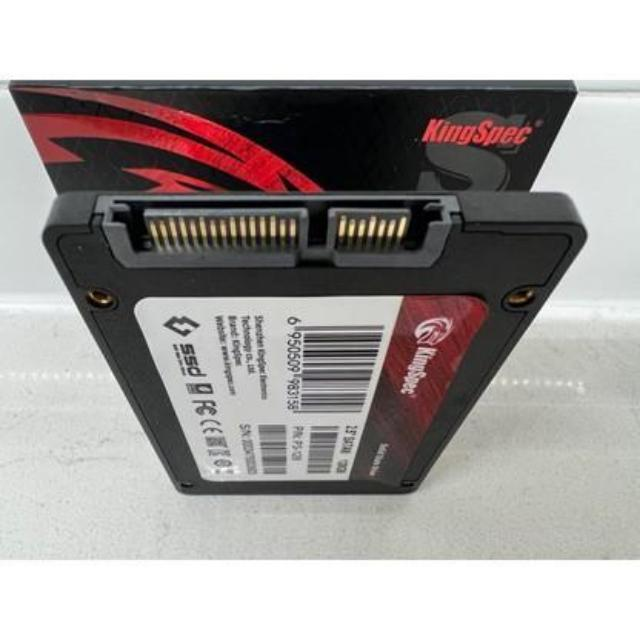DISK: (32, 180, 592, 529)
